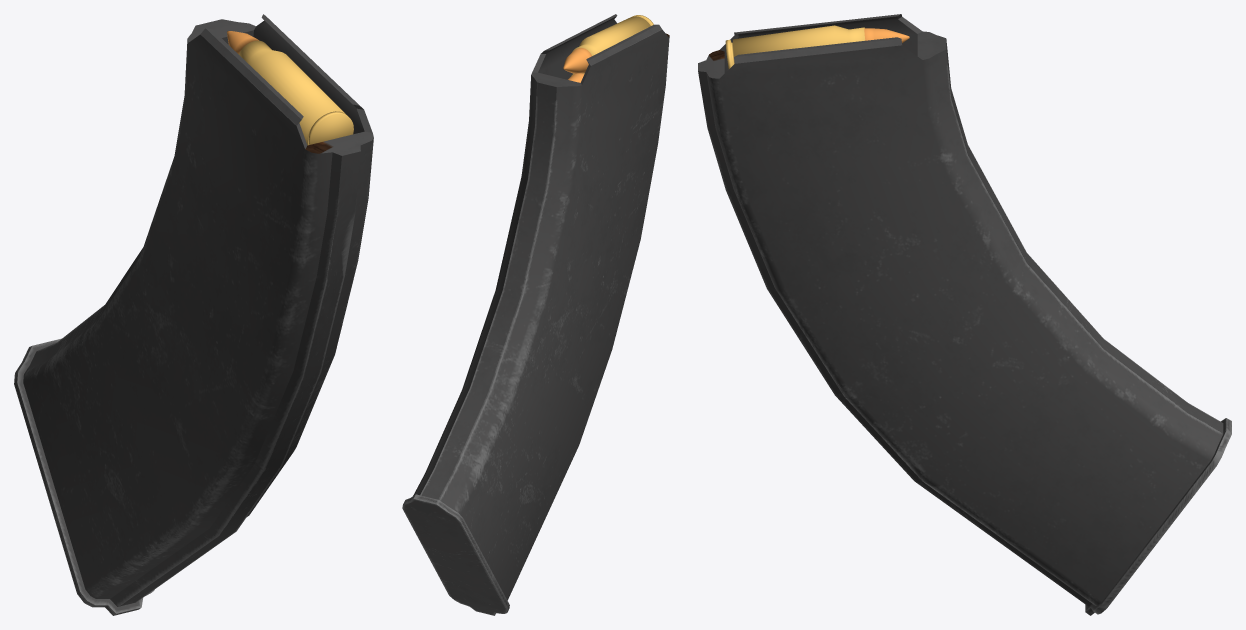
The model's file is ak47_mag.glb.
The picture shows the model from 3 angles, left to right: view 1: azimuth 30°, elevation 25°; view 2: azimuth 150°, elevation 25°; view 3: azimuth 270°, elevation 25°; orthographic projection. The views are drawn at different scales.
Parts seen in each view (by area): view 1: Magazine, Cylinder; view 2: Magazine, Cylinder; view 3: Magazine, Cylinder.
Part boxes in pixels (box(x1,y1,x2,y2)): Magazine: box(14, 14, 373, 615); Cylinder: box(227, 31, 353, 145); Magazine: box(402, 14, 669, 615); Cylinder: box(563, 15, 653, 73); Magazine: box(698, 14, 1231, 615); Cylinder: box(725, 25, 909, 69).
Bounding box in the file's own units: 0.0226 × 0.1841 × 0.1525.
3 materials, 1 textured.
